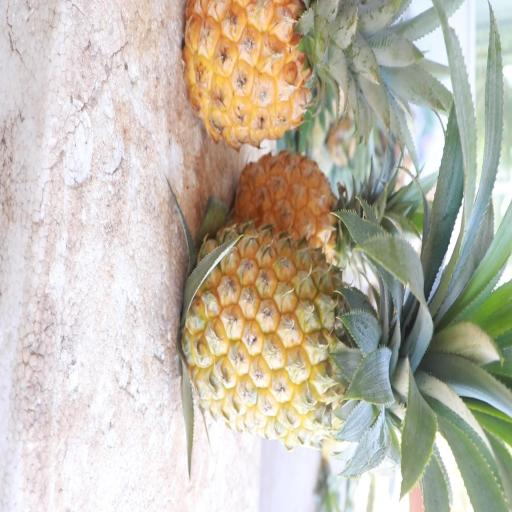Pineapple - v8 v1: (176, 221, 423, 458), (182, 0, 376, 148), (235, 141, 378, 262), (244, 98, 244, 99)
